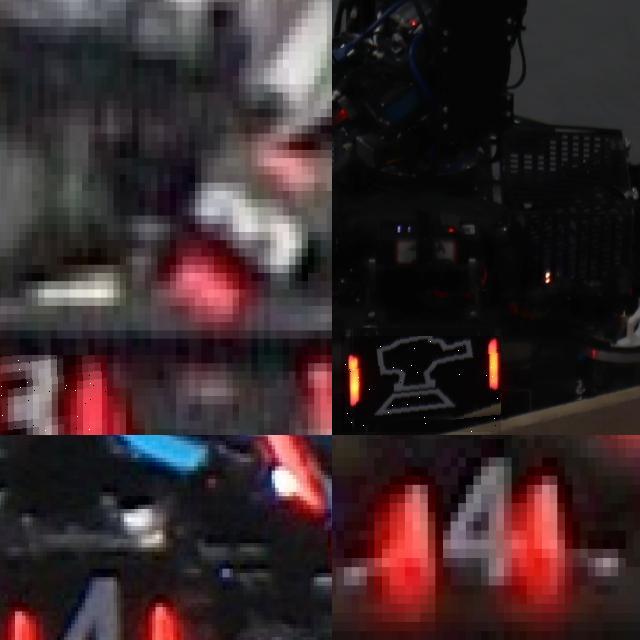R3: (0, 354, 107, 435)
R4: (382, 435, 572, 622), (0, 573, 177, 640)
Rs: (341, 336, 501, 432)
